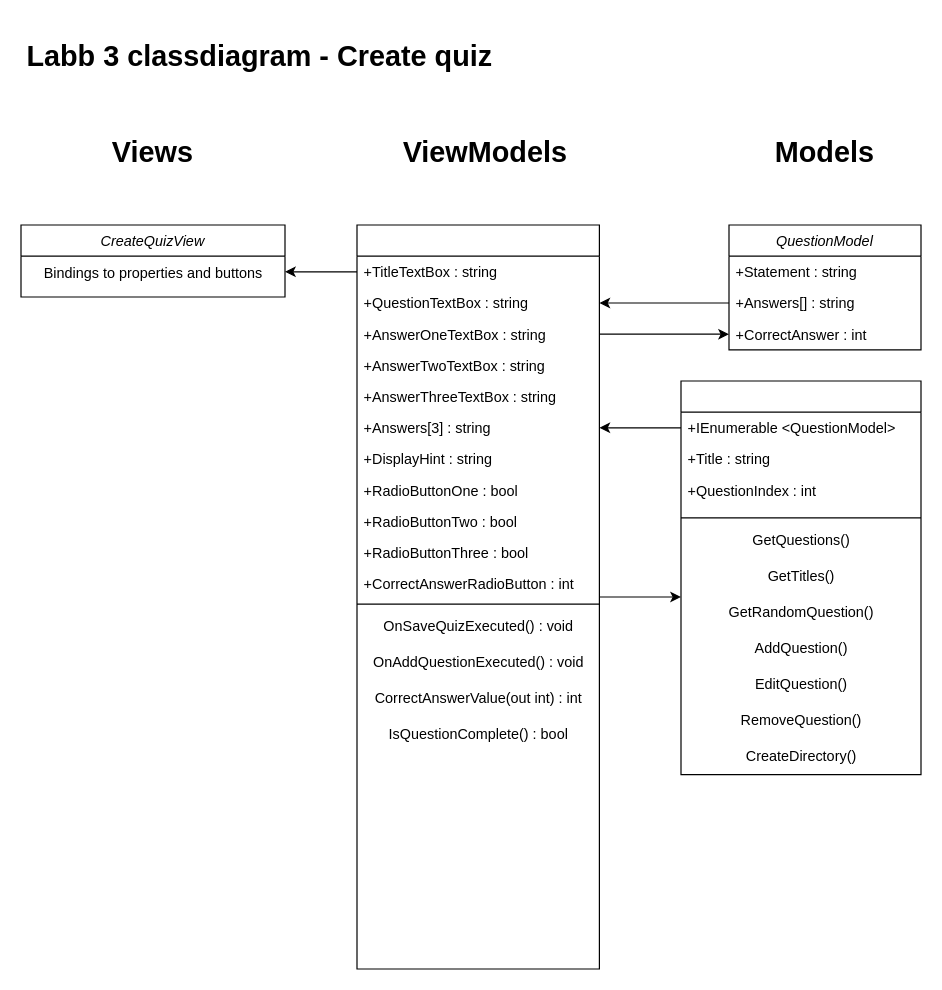
Some shapes in this 942 by 990 pixel diagram are drawn without their labels. The box of each missing label's shape, as (x1, y1, x2, y2) in pixels:
CreateQuizViewModel: (356, 224, 599, 969)
QuizModel: (680, 380, 921, 775)
